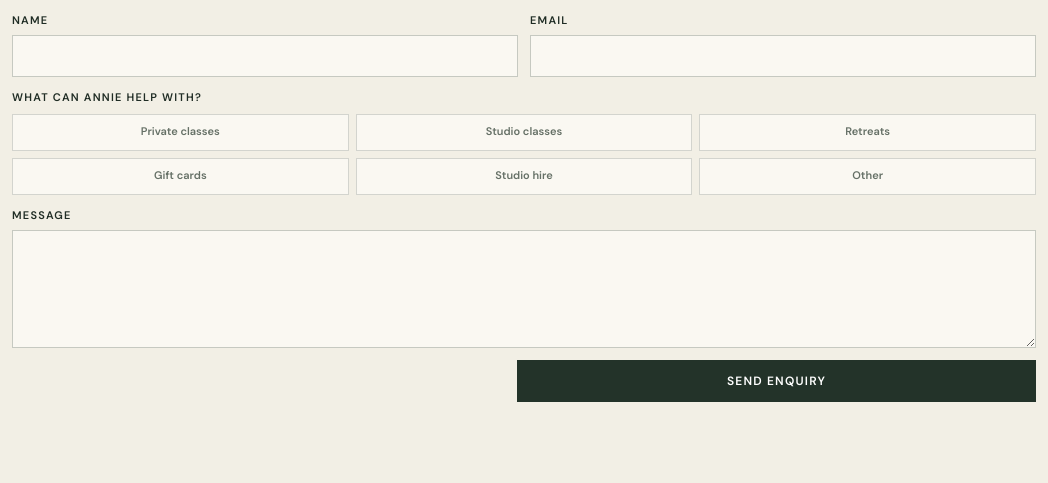
Test: EnquiryForm › tells a visitor to complete the spam check before sending
In the field labelled "Name": (265, 56) [12,35,518,77], type "Alex Murphy"
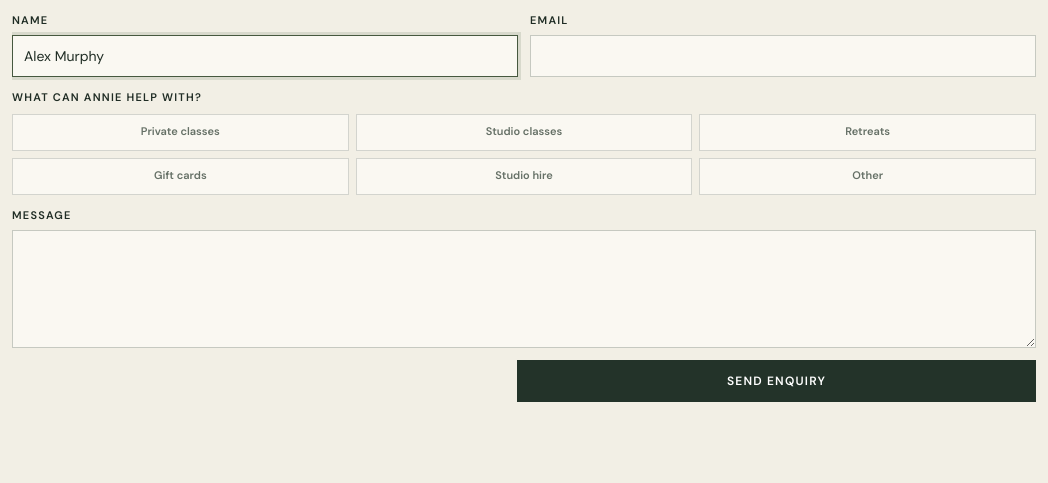
In the field labelled "Email": (783, 56) [530,35,1036,77], type "alex@example.com"
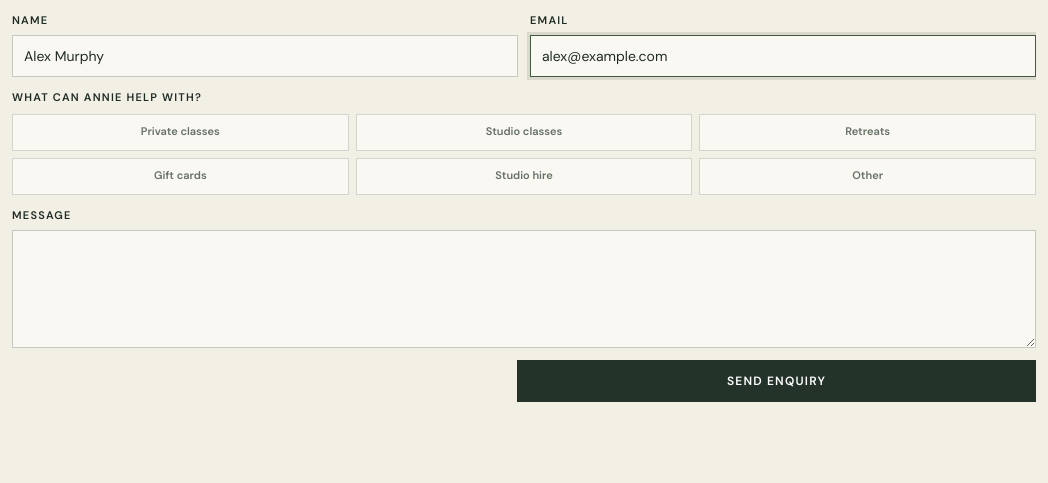
Click the radio button labelled "Retreats": (868, 132) [699,114,1036,150]
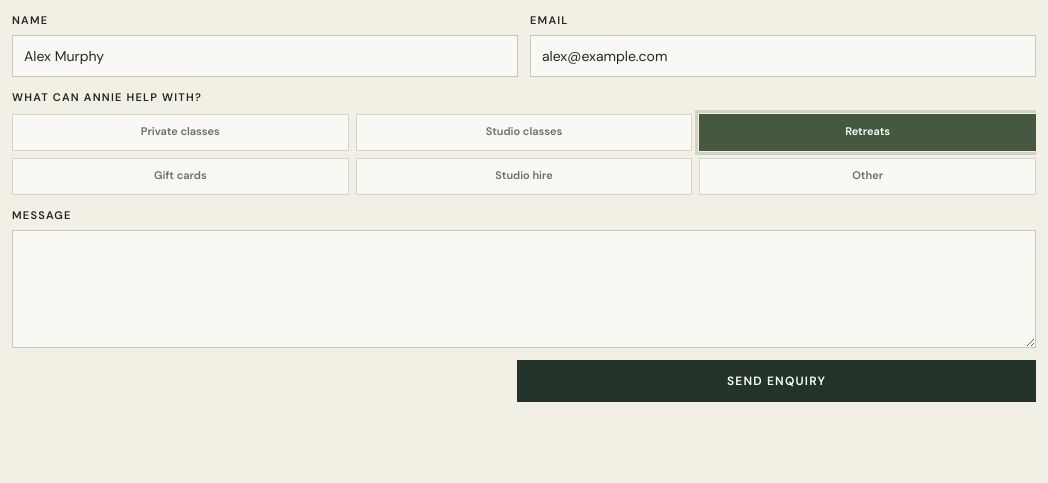
In the text box labelled "Message": (524, 289) [12,230,1036,348], type "Could you tell me about the next retreat?"
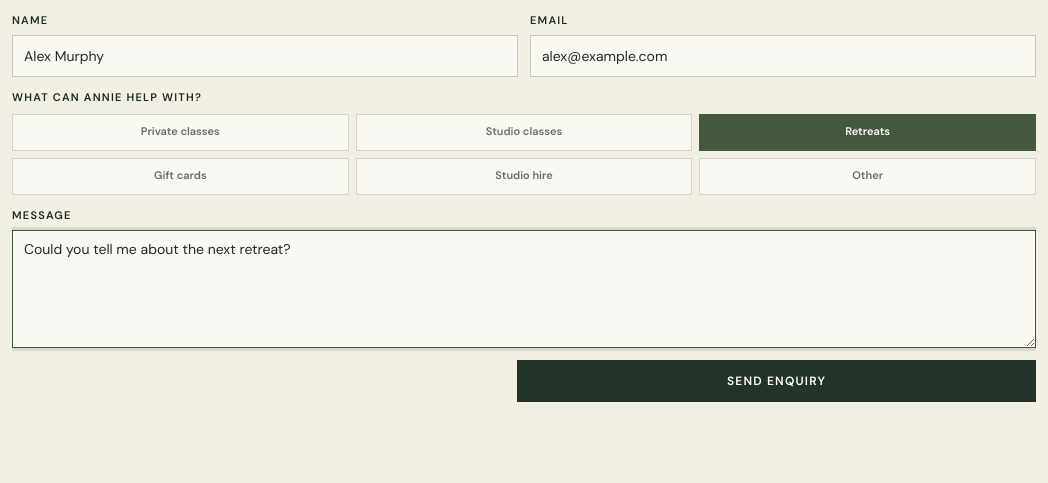
Click the button "Send enquiry": (776, 381) [517,360,1036,402]
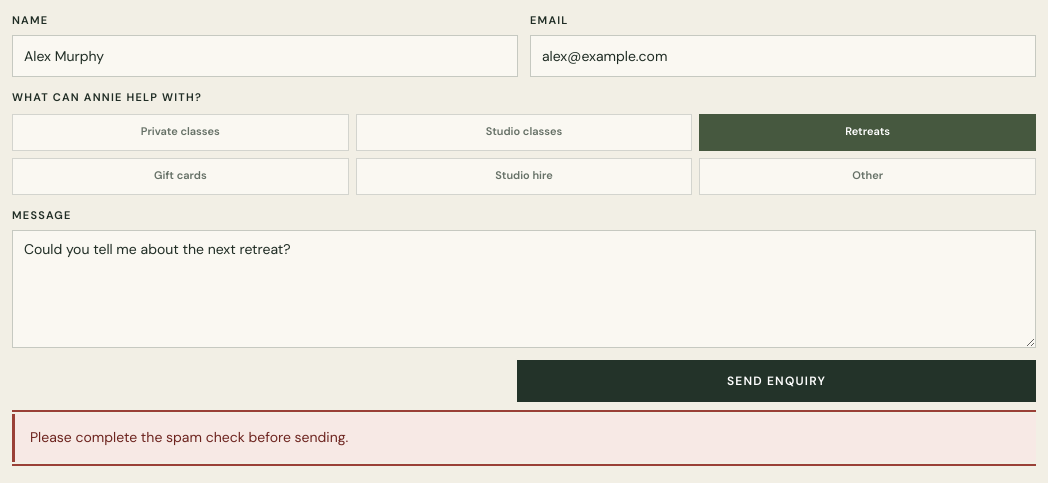
expect the message reads "Please complete the spam check before sending.": met, box [30,428,348,446]
